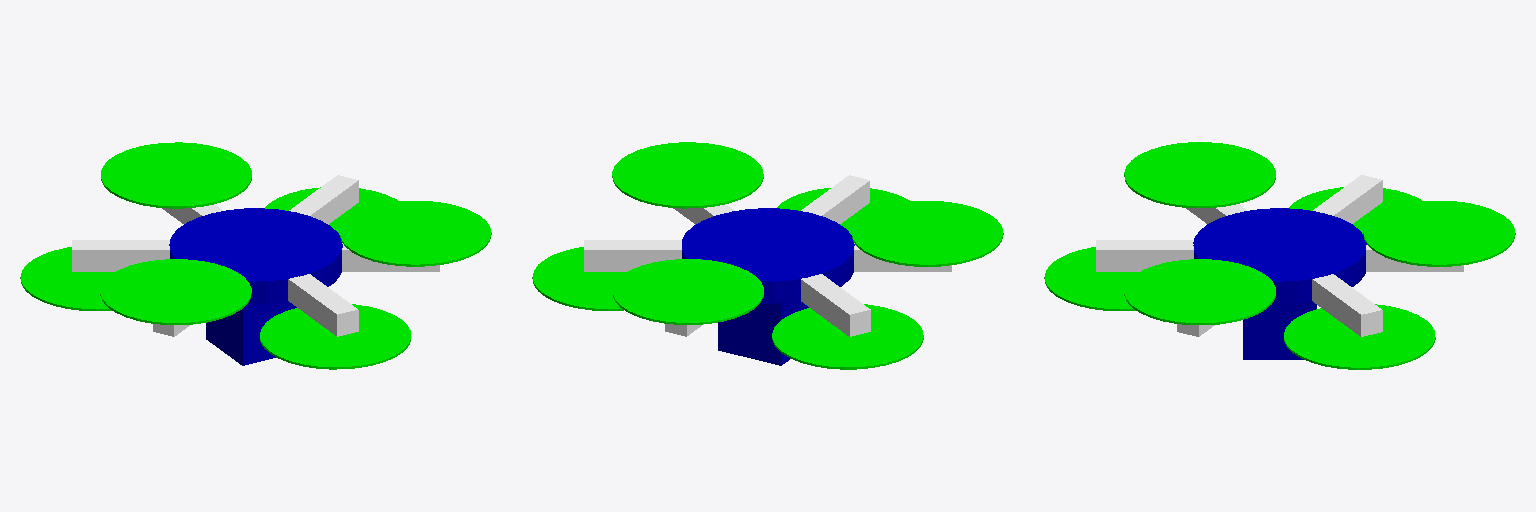
robot.urdf — hexarotor:
<?xml version="1.0"?>
<robot name="hexarotor">


  <link name="mainbody">
    <visual>
      <geometry>
        <cylinder radius=".071" length=".02"/>
        <origin rpy="0 0 0" xyz="0.0 0.0 0.01"/>
      </geometry>
<!--       <geometry>
        <box size="0.2 0.01 0.01"/>
        <origin rpy="0 0 0" xyz="0.10 0.0 0.0"/>
      </geometry> -->
      <material name="blue">
        <color rgba="0 0 .8 1"/>
      </material>
    </visual>
    <collision>
      <geometry>
          <cylinder radius=".07" length=".02"/>
      </geometry>
      <origin xyz="0.0 0.0 0.0"/>
    </collision>
    <inertial>
      <mass value="0.1"/>
      <inertia ixx="1.0" ixy="0.0" ixz="0.0" iyy="1.0" iyz="0.0" izz="1.0"/>
    </inertial>
  </link>

<link name="prop1">
    <visual>
      <geometry>
        <cylinder radius=".062" length=".002"/>
        <origin rpy="0 0 0" xyz="0.0 0.0 0.0"/>
      </geometry>
      <material name="green">
        <color rgba="0 1 0 0.4"/>
      </material>
    </visual>
    <inertial>
    <origin xyz="0.0 0.0 0.001"/>
      <mass value="0.003"/>
      <inertia ixx="1.0" ixy="0.0" ixz="0.0" iyy="1.0" iyz="0.0" izz="1.0"/>
    </inertial>
     <collision>
      <geometry>
        <cylinder radius=".062" length=".002"/>
      </geometry>
      <origin rpy="0 0 0" xyz="0.0 0.0 0.001"/>
    </collision>
  </link>

<link name="prop2">
    <visual>
      <geometry>
        <cylinder radius=".062" length=".002"/>
        <origin rpy="0 0 0" xyz="0.0 0.0 0.0"/>
      </geometry>
      <material name="green">
        <color rgba="0 1 0 0.4"/>
      </material>
    </visual>
    <inertial>
    <origin xyz="0.0 0.0 0.001"/>
      <mass value="0.003"/>
      <inertia ixx="1.0" ixy="0.0" ixz="0.0" iyy="1.0" iyz="0.0" izz="1.0"/>
    </inertial>
     <collision>
      <geometry>
        <cylinder radius=".062" length=".002"/>
      </geometry>
      <origin rpy="0 0 0" xyz="0.0 0.0 0.001"/>
    </collision>
  </link>

<link name="prop3">
    <visual>
      <geometry>
        <cylinder radius=".062" length=".002"/>
        <origin rpy="0 0 0" xyz="0.0 0.0 0.0"/>
      </geometry>
      <material name="green">
        <color rgba="0 1 0 0.4"/>
      </material>
    </visual>
    <inertial>
    <origin xyz="0.0 0.0 0.001"/>
      <mass value="0.003"/>
      <inertia ixx="1.0" ixy="0.0" ixz="0.0" iyy="1.0" iyz="0.0" izz="1.0"/>
    </inertial>
     <collision>
      <geometry>
        <cylinder radius=".062" length=".002"/>
      </geometry>
      <origin rpy="0 0 0" xyz="0.0 0.0 0.001"/>
    </collision>
  </link>

<link name="prop4">
    <visual>
      <geometry>
        <cylinder radius=".062" length=".002"/>
        <origin rpy="0 0 0" xyz="0.0 0.0 0.0"/>
      </geometry>
      <material name="green">
        <color rgba="0 1 0 0.4"/>
      </material>
    </visual>
    <inertial>
    <origin xyz="0.0 0.0 0.001"/>
      <mass value="0.003"/>
      <inertia ixx="1.0" ixy="0.0" ixz="0.0" iyy="1.0" iyz="0.0" izz="1.0"/>
    </inertial>
     <collision>
      <geometry>
        <cylinder radius=".062" length=".002"/>
      </geometry>
      <origin rpy="0 0 0" xyz="0.0 0.0 0.001"/>
    </collision>
  </link>

<link name="prop5">
    <visual>
      <geometry>
        <cylinder radius=".062" length=".002"/>
        <origin rpy="0 0 0" xyz="0.0 0.0 0.0"/>
      </geometry>
      <material name="green">
        <color rgba="0 1 0 0.4"/>
      </material>
    </visual>
    <inertial>
    <origin xyz="0.0 0.0 0.001"/>
      <mass value="0.003"/>
      <inertia ixx="1.0" ixy="0.0" ixz="0.0" iyy="1.0" iyz="0.0" izz="1.0"/>
    </inertial>
     <collision>
      <geometry>
        <cylinder radius=".062" length=".002"/>
      </geometry>
      <origin rpy="0 0 0" xyz="0.0 0.0 0.001"/>
    </collision>
  </link>

<link name="prop6">
    <visual>
      <geometry>
        <cylinder radius=".062" length=".002"/>
        <origin rpy="0 0 0" xyz="0.0 0.0 0.0"/>
      </geometry>
      <material name="green">
        <color rgba="0 1 0 0.4"/>
      </material>
    </visual>
    <inertial>
    <origin xyz="0.0 0.0 0.001"/>
      <mass value="0.003"/>
      <inertia ixx="1.0" ixy="0.0" ixz="0.0" iyy="1.0" iyz="0.0" izz="1.0"/>
    </inertial>
     <collision>
      <geometry>
        <cylinder radius=".062" length=".002"/>
      </geometry>
      <origin rpy="0 0 0" xyz="0.0 0.0 0.001"/>
    </collision>
  </link>

  <link name="landinggear">
    <visual>
      <geometry>
        <box size="0.06 0.06 0.06"/>
        <origin rpy="0 0 0" xyz="0.0 0.0 0.0"/>
      </geometry>
      <material name="blue">
        <color rgba="0 0 .8 1"/>
      </material>
    </visual>
    <collision>
      <geometry>
          <box size="0.06 0.06 0.06"/>
      </geometry>
      <origin xyz="0.0 0.0 0.0"/>
    </collision>
    <inertial>
      <mass value="0.1"/>
      <inertia ixx="1.0" ixy="0.0" ixz="0.0" iyy="1.0" iyz="0.0" izz="1.0"/>
    </inertial>
  </link>

<link name="arm1">
    <visual>
      <geometry>
        <box size="0.08 0.02 0.02"/> 
      </geometry>
      <origin rpy="0 0 0" xyz="0.04 0.0 0.0"/>
      <material name="white">
        <color rgba="1 1 1 1"/>
      </material>
    </visual>
    <inertial>
    <origin xyz="0.04 0.01 0.01"/>
      <mass value="0.03"/>
      <inertia ixx="1.0" ixy="0.0" ixz="0.0" iyy="1.0" iyz="0.0" izz="1.0"/>
    </inertial>
     <collision>
      <geometry>
        <box size="0.08 0.02 0.02"/> 
      </geometry>
      <origin rpy="0 0 0" xyz="0.04 0.01 0.01"/>
    </collision>
  </link>

<link name="arm2">
    <visual>
      <geometry>
        <box size="0.08 0.02 0.02"/> 
      </geometry>
      <origin rpy="0 0 0" xyz="0.04 0.0 0.0"/>
      <material name="white">
        <color rgba="1 1 1 1"/>
      </material>
    </visual>
    <inertial>
    <origin xyz="0.04 0.01 0.01"/>
      <mass value="0.03"/>
      <inertia ixx="1.0" ixy="0.0" ixz="0.0" iyy="1.0" iyz="0.0" izz="1.0"/>
    </inertial>
     <collision>
      <geometry>
        <box size="0.08 0.02 0.02"/> 
      </geometry>
      <origin rpy="0 0 0" xyz="0.04 0.01 0.01"/>
    </collision>
  </link>

  <link name="arm3">
    <visual>
      <geometry>
        <box size="0.08 0.02 0.02"/> 
      </geometry>
      <origin rpy="0 0 0" xyz="0.04 0.0 0.0"/>
      <material name="white">
        <color rgba="1 1 1 1"/>
      </material>
    </visual>
    <inertial>
    <origin xyz="0.04 0.01 0.01"/>
      <mass value="0.03"/>
      <inertia ixx="1.0" ixy="0.0" ixz="0.0" iyy="1.0" iyz="0.0" izz="1.0"/>
    </inertial>
     <collision>
      <geometry>
        <box size="0.08 0.02 0.02"/> 
      </geometry>
      <origin rpy="0 0 0" xyz="0.04 0.01 0.01"/>
    </collision>
  </link>

    <link name="arm4">
     <visual>
      <geometry>
        <box size="0.08 0.02 0.02"/> 
      </geometry>
      <origin rpy="0 0 0" xyz="0.04 0.0 0.0"/>
      <material name="white">
        <color rgba="1 1 1 1"/>
      </material>
    </visual>
    <inertial>
    <origin xyz="0.04 0.01 0.01"/>
      <mass value="0.03"/>
      <inertia ixx="1.0" ixy="0.0" ixz="0.0" iyy="1.0" iyz="0.0" izz="1.0"/>
    </inertial>
     <collision>
      <geometry>
        <box size="0.08 0.02 0.02"/> 
      </geometry>
      <origin rpy="0 0 0" xyz="0.04 0.01 0.01"/>
    </collision>
  </link>

    <link name="arm5">
     <visual>
      <geometry>
        <box size="0.08 0.02 0.02"/> 
      </geometry>
      <origin rpy="0 0 0" xyz="0.04 0.0 0.0"/>
      <material name="white">
        <color rgba="1 1 1 1"/>
      </material>
    </visual>
    <inertial>
    <origin xyz="0.04 0.01 0.01"/>
      <mass value="0.03"/>
      <inertia ixx="1.0" ixy="0.0" ixz="0.0" iyy="1.0" iyz="0.0" izz="1.0"/>
    </inertial>
     <collision>
      <geometry>
        <box size="0.08 0.02 0.02"/> 
      </geometry>
      <origin rpy="0 0 0" xyz="0.048 0.01 0.01"/>
    </collision>
  </link>

    <link name="arm6">
    <visual>
      <geometry>
        <box size="0.08 0.02 0.02"/> 
      </geometry>
      <origin rpy="0 0 0" xyz="0.04 0.0 0.0"/>
      <material name="white">
        <color rgba="1 1 1 1"/>
      </material>
    </visual>
    <inertial>
    <origin xyz="0.04 0.01 0.01"/>
      <mass value="0.03"/>
      <inertia ixx="1.0" ixy="0.0" ixz="0.0" iyy="1.0" iyz="0.0" izz="1.0"/>
    </inertial>
     <collision>
      <geometry>
        <box size="0.08 0.02 0.02"/> 
      </geometry>
      <origin rpy="0 0 0" xyz="0.045 0.01 0.01"/>
    </collision>
  </link>

  <joint name="body_to_arm1" type="revolute">
    <axis xyz="0 0 1"/>
    <origin rpy="0 0 -0.523" xyz="0.061 -0.035 0"/>
    <parent link="mainbody"/>
    <child link="arm1"/>
    <limit effort="1" velocity="0.5"/>
    <joint_properties damping="0.0" friction="0.0"/>
  </joint>

    <joint name="body_to_arm2" type="revolute">
    <axis xyz="0 0 1"/>
    <origin rpy="0 0 -1.57" xyz="0.0 -0.07 0"/>
    <parent link="mainbody"/>
    <child link="arm2"/>
    <limit effort="1" velocity="0.5"/>
    <joint_properties damping="0.0" friction="0.0"/>
  </joint>

    <joint name="body_to_arm3" type="revolute">
    <axis xyz="0 0 1"/>
    <origin rpy="0 0 -2.617" xyz="-0.061 -0.035 0"/>
    <parent link="mainbody"/>
    <child link="arm3"/>
    <limit effort="1" velocity="0.5"/>
    <joint_properties damping="0.0" friction="0.0"/>
  </joint>

  <joint name="body_to_arm4" type="revolute">
    <axis xyz="0 0 1"/>
    <origin rpy="0 0 2.617" xyz="-0.061 0.035 0"/>
    <parent link="mainbody"/>
    <child link="arm4"/>
    <limit effort="1" velocity="0.5"/>
    <joint_properties damping="0.0" friction="0.0"/>
  </joint>

    <joint name="body_to_arm5" type="revolute">
    <axis xyz="0 0 1"/>
    <origin rpy="0 0 1.57" xyz="0.0 0.07 0"/>
    <parent link="mainbody"/>
    <child link="arm5"/>
    <limit effort="1" velocity="0.5"/>
    <joint_properties damping="0.0" friction="0.0"/>
  </joint>

    <joint name="body_to_arm6" type="revolute">
    <axis xyz="0 0 1"/>
    <origin rpy="0 0 .523" xyz="0.061 0.035 0"/>
    <parent link="mainbody"/>
    <child link="arm6"/>
    <limit effort="1" velocity="0.5"/>
    <joint_properties damping="0.0" friction="0.0"/>
  </joint>

  <joint name="body_to_landinggear" type="fixed">
    <origin rpy="0 0 0" xyz="0.0 0.0 -0.05"/>
    <parent link="mainbody"/>
    <child link="landinggear"/>
  </joint>

  <joint name="arm1_to_prop1" type="fixed">
    <origin rpy="0 0 0" xyz="0.06 0.0 0.02"/>
    <parent link="arm1"/>
    <child link="prop1"/>
  </joint>

    <joint name="arm2_to_prop2" type="fixed">
    <origin rpy="0 0 0" xyz="0.06 0.0 -0.02"/>
    <parent link="arm2"/>
    <child link="prop2"/>
  </joint>

  <joint name="arm3_to_prop3" type="fixed">
    <origin rpy="0 0 0" xyz="0.06 0.0 0.02"/>
    <parent link="arm3"/>
    <child link="prop3"/>
  </joint>

  <joint name="arm4_to_prop4" type="fixed">
    <origin rpy="0 0 0" xyz="0.06 0.0 -0.02"/>
    <parent link="arm4"/>
    <child link="prop4"/>
  </joint>

  <joint name="arm5_to_prop5" type="fixed">
    <origin rpy="0 0 0" xyz="0.06 0.0 0.02"/>
    <parent link="arm5"/>
    <child link="prop5"/>
  </joint>

  <joint name="arm6_to_prop6" type="fixed">
    <origin rpy="0 0 0" xyz="0.06 0.0 -0.02"/>
    <parent link="arm6"/>
    <child link="prop6"/>
  </joint>


</robot>

--- What the picture shows (computed from the rendered views, not written in the file) ---
Views: 3 orthographic renders of the robot side by side, from view 1: azimuth 30°, elevation 25°; view 2: azimuth 150°, elevation 25°; view 3: azimuth 270°, elevation 25°.
Model hexarotor with 14 links and 13 joints (6 revolute, 7 fixed), rooted at mainbody, posed all joints at 0.
Links seen in each view (by area): view 1: mainbody, prop5, prop3, prop1, prop2, prop4, landinggear, arm4, arm2, arm6, prop6, arm1 (+1 smaller); view 2: mainbody, prop3, prop1, prop5, prop4, prop6, landinggear, arm6, arm4, arm2, prop2, arm3 (+1 smaller); view 3: mainbody, prop3, prop1, prop5, prop6, prop2, arm2, landinggear, arm6, arm4, prop4, arm5 (+1 smaller).
Boxes of the visible links, box(x1,y1,x2,y2) form: mainbody: box(169, 208, 342, 303); prop5: box(101, 142, 251, 208); prop3: box(100, 259, 251, 324); prop1: box(340, 201, 491, 266); prop2: box(260, 304, 410, 369); prop4: box(20, 247, 114, 310); landinggear: box(206, 301, 296, 365); arm4: box(72, 240, 169, 271); arm2: box(288, 274, 358, 336); arm6: box(289, 175, 358, 224); prop6: box(265, 187, 397, 234); arm1: box(342, 243, 439, 271); mainbody: box(682, 208, 854, 303); prop3: box(852, 201, 1003, 266); prop1: box(612, 142, 763, 208); prop5: box(613, 259, 763, 324); prop4: box(772, 304, 923, 369); prop6: box(532, 247, 626, 310); landinggear: box(718, 301, 808, 365); arm6: box(584, 240, 681, 271); arm4: box(801, 274, 870, 336); arm2: box(801, 175, 869, 223); prop2: box(777, 188, 910, 234); arm3: box(854, 243, 951, 271); mainbody: box(1193, 208, 1366, 303); prop3: box(1124, 142, 1275, 207); prop1: box(1124, 259, 1275, 324); prop5: box(1363, 201, 1515, 266); prop6: box(1284, 304, 1435, 369); prop2: box(1044, 247, 1138, 310); arm2: box(1096, 240, 1193, 271); landinggear: box(1243, 301, 1316, 359); arm6: box(1312, 274, 1382, 336); arm4: box(1313, 175, 1382, 223); prop4: box(1289, 187, 1421, 233); arm5: box(1366, 245, 1463, 271).
Size in the robot's own frame: 0.3496 by 0.384 by 0.101 metres.
Geometry: primitives only (box / cylinder / sphere), no mesh files.